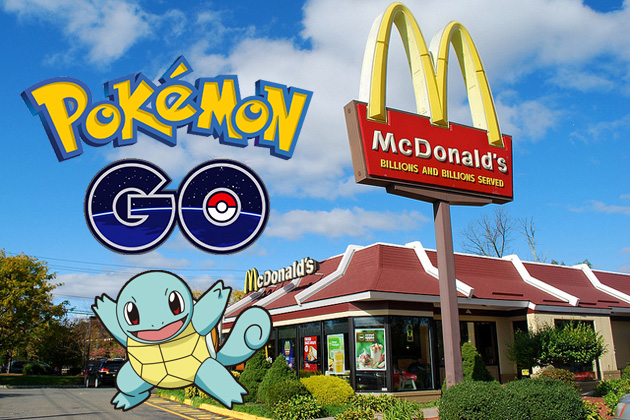mcdonalds: (357, 1, 507, 153)
